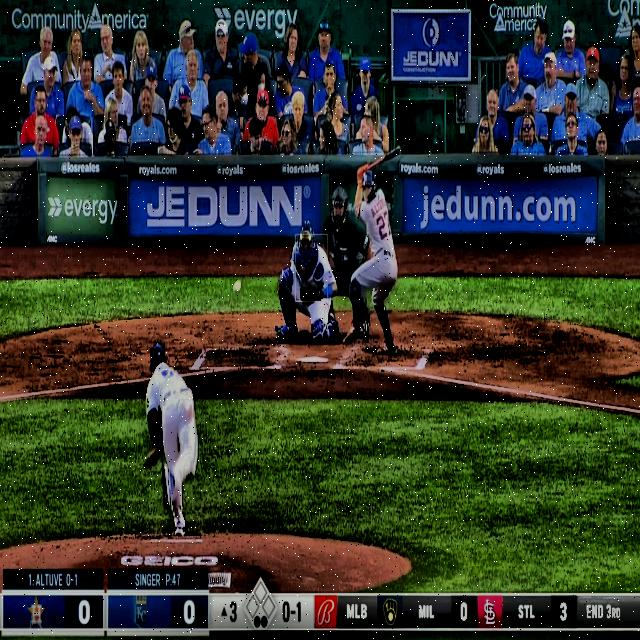baseball: (233, 280, 241, 293)
